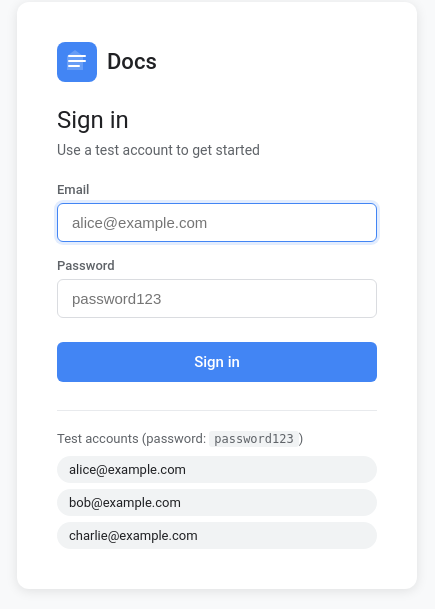
Scenario: LoginPage › fills email when a chip is clicked
Step 1. Click the button "alice@example.com" → {"x": 127, "y": 469}, box top-left (57, 456), bottom-right (377, 482)
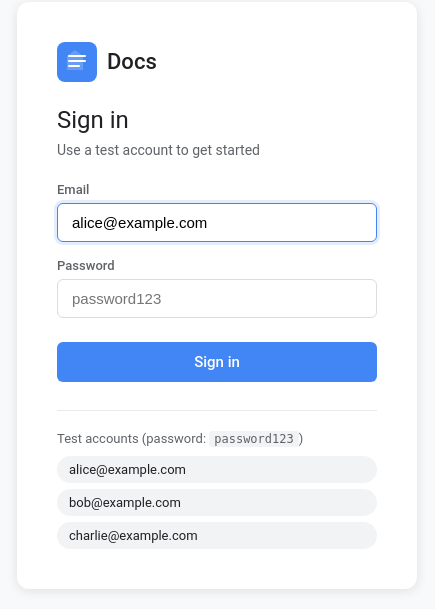
Expected: the field labelled "Email" holds "alice@example.com", top-left (57, 202), bottom-right (377, 242)
